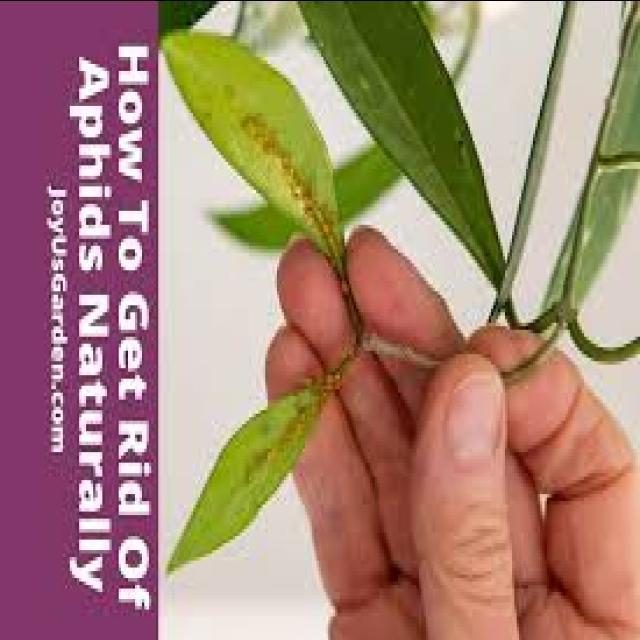aphid: (261, 441, 279, 458), (305, 186, 319, 207), (333, 364, 347, 382), (300, 402, 312, 420), (323, 367, 338, 381), (293, 186, 305, 196), (324, 220, 336, 230), (284, 150, 296, 160)
